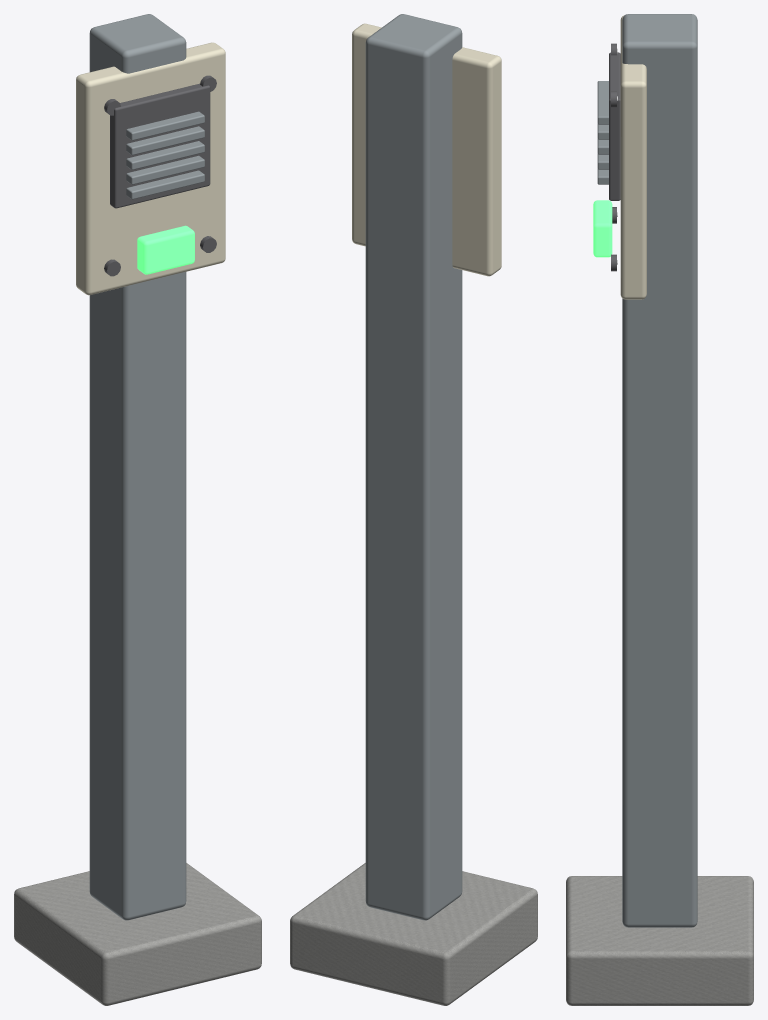
File: prison-complex-builder-intercom-post-3f0c9f01__25661.glb
The picture shows the model from 3 angles, left to right: view 1: azimuth 30°, elevation 25°; view 2: azimuth 150°, elevation 25°; view 3: azimuth 270°, elevation 25°; orthographic projection.
Visible parts, largest first — view 1: intercom-post; view 2: intercom-post; view 3: intercom-post.
Part boxes in pixels (bbox=[...]): intercom-post: bbox=[14, 14, 261, 1005]; intercom-post: bbox=[290, 14, 537, 1005]; intercom-post: bbox=[566, 14, 753, 1005].
Bounding box in the file's own units: 0.25 × 1.38 × 0.25.
6 materials, 1 textured.
